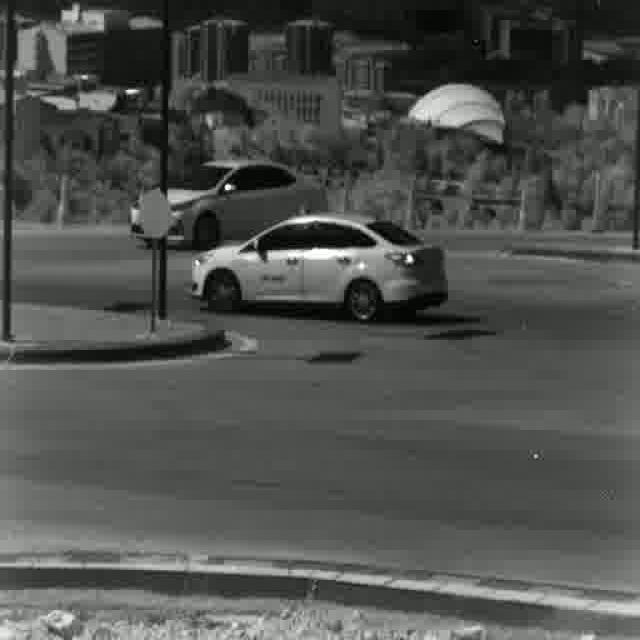Car: (194, 213, 446, 324), (129, 160, 326, 250)
